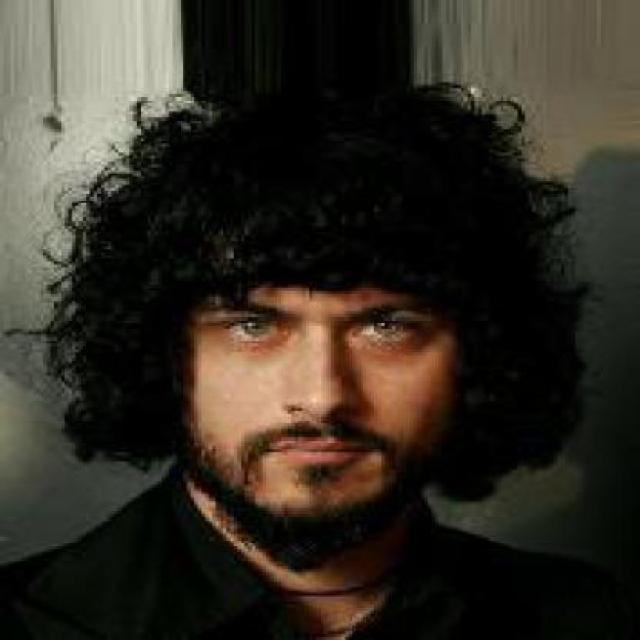closed-mouth: (274, 436, 362, 464)
